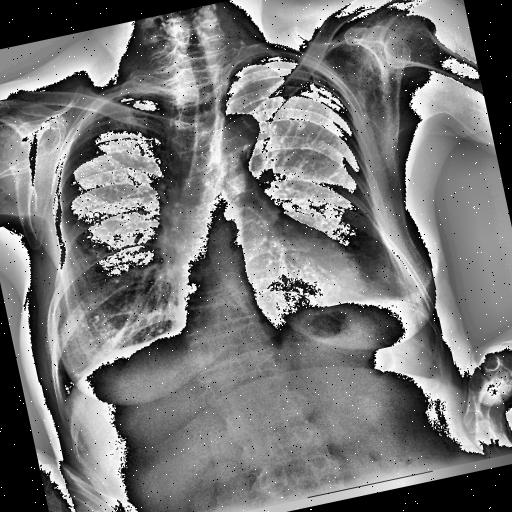0- Aortic enlargement: (204, 110, 268, 182)
10- Pleural effusion: (388, 268, 432, 318)
11- Pleural thickening: (388, 268, 432, 318)
3- Cardiomegaly: (168, 233, 366, 338)
9- Other lesion: (151, 144, 227, 330)
